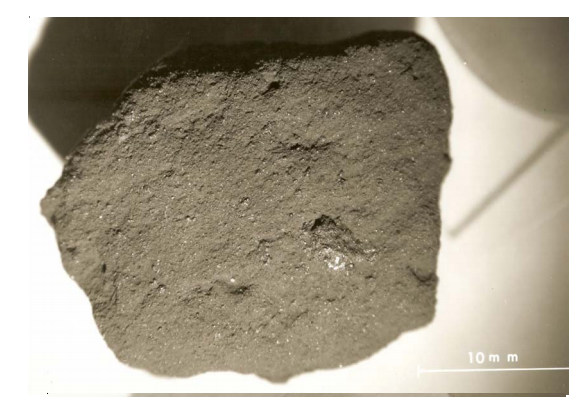Breccia: (38, 34, 463, 387)
